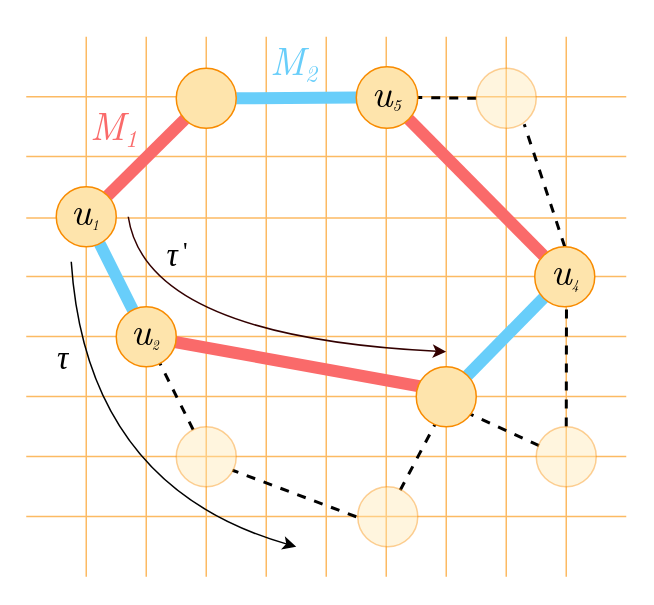
Image size: 654x605. Some labels were removed from this diagram. Here are the shapes that lost their labels. From the top down, the centre of each, then its label:
At pixel 205 97: "u 6".
At pixel 445 396: "u 3".
